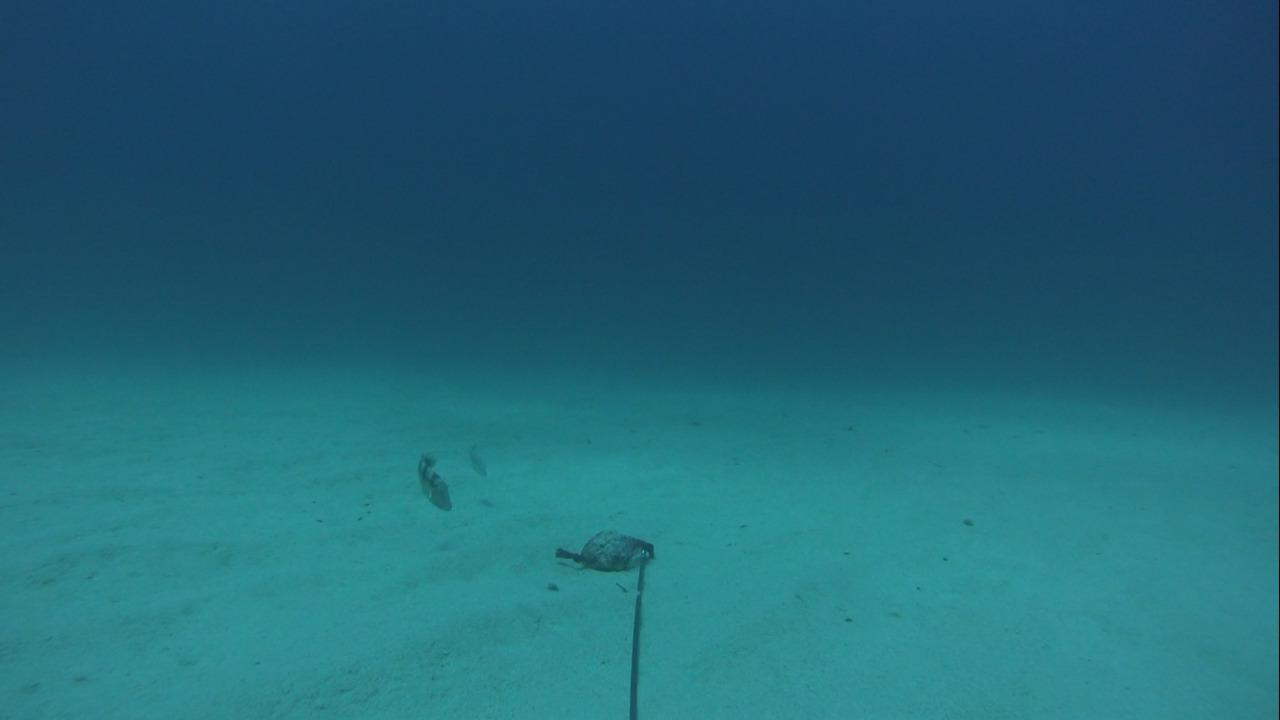raor: (410, 446, 454, 514), (460, 433, 494, 481)
